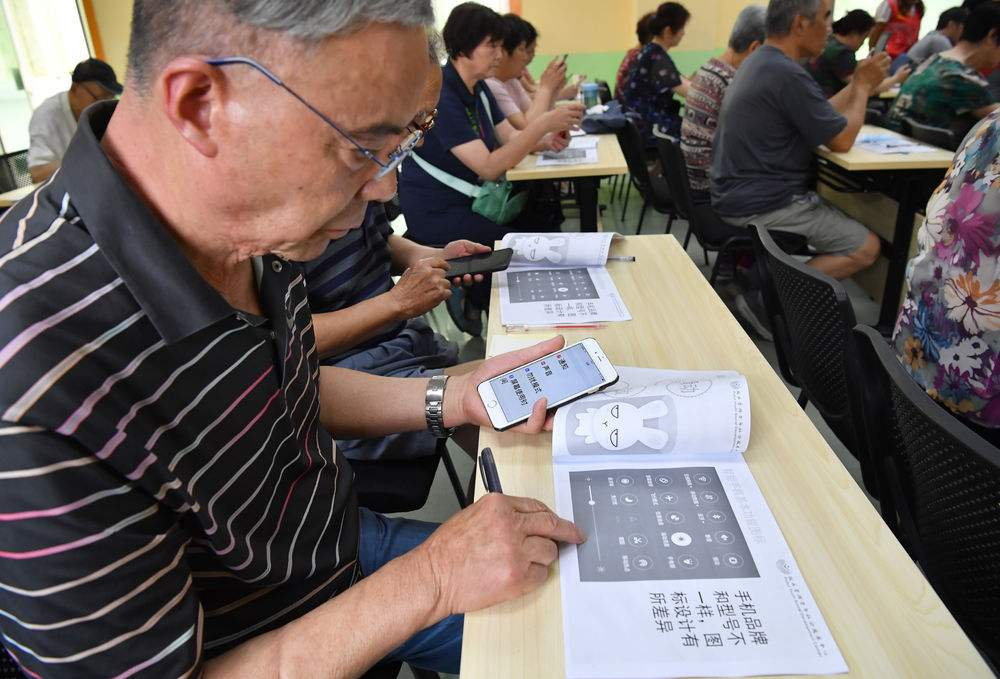Mobile-phone: (475, 336, 620, 427)
